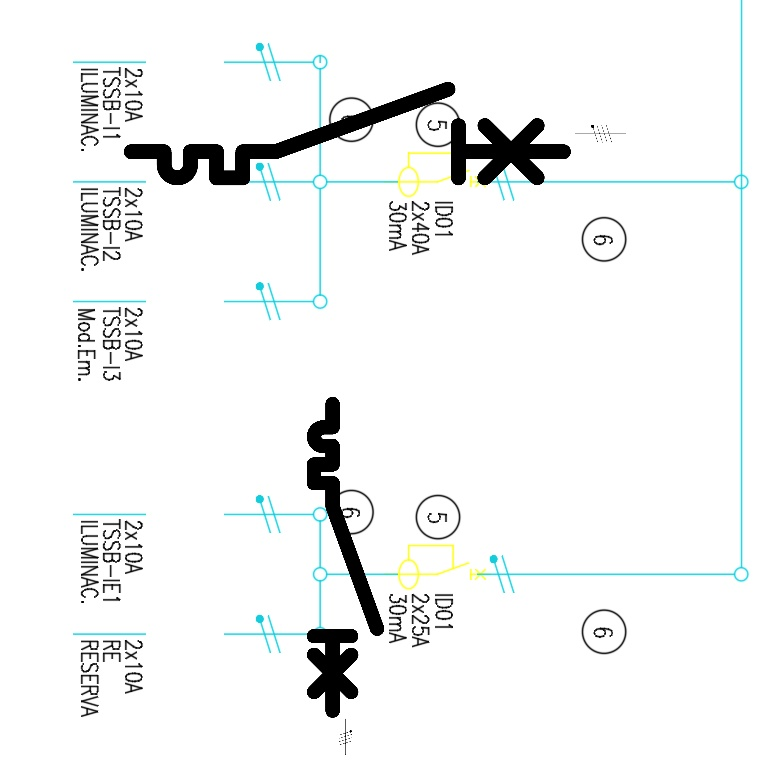interruptor_termomagnetico: (120, 78, 574, 189), (306, 396, 385, 719)
